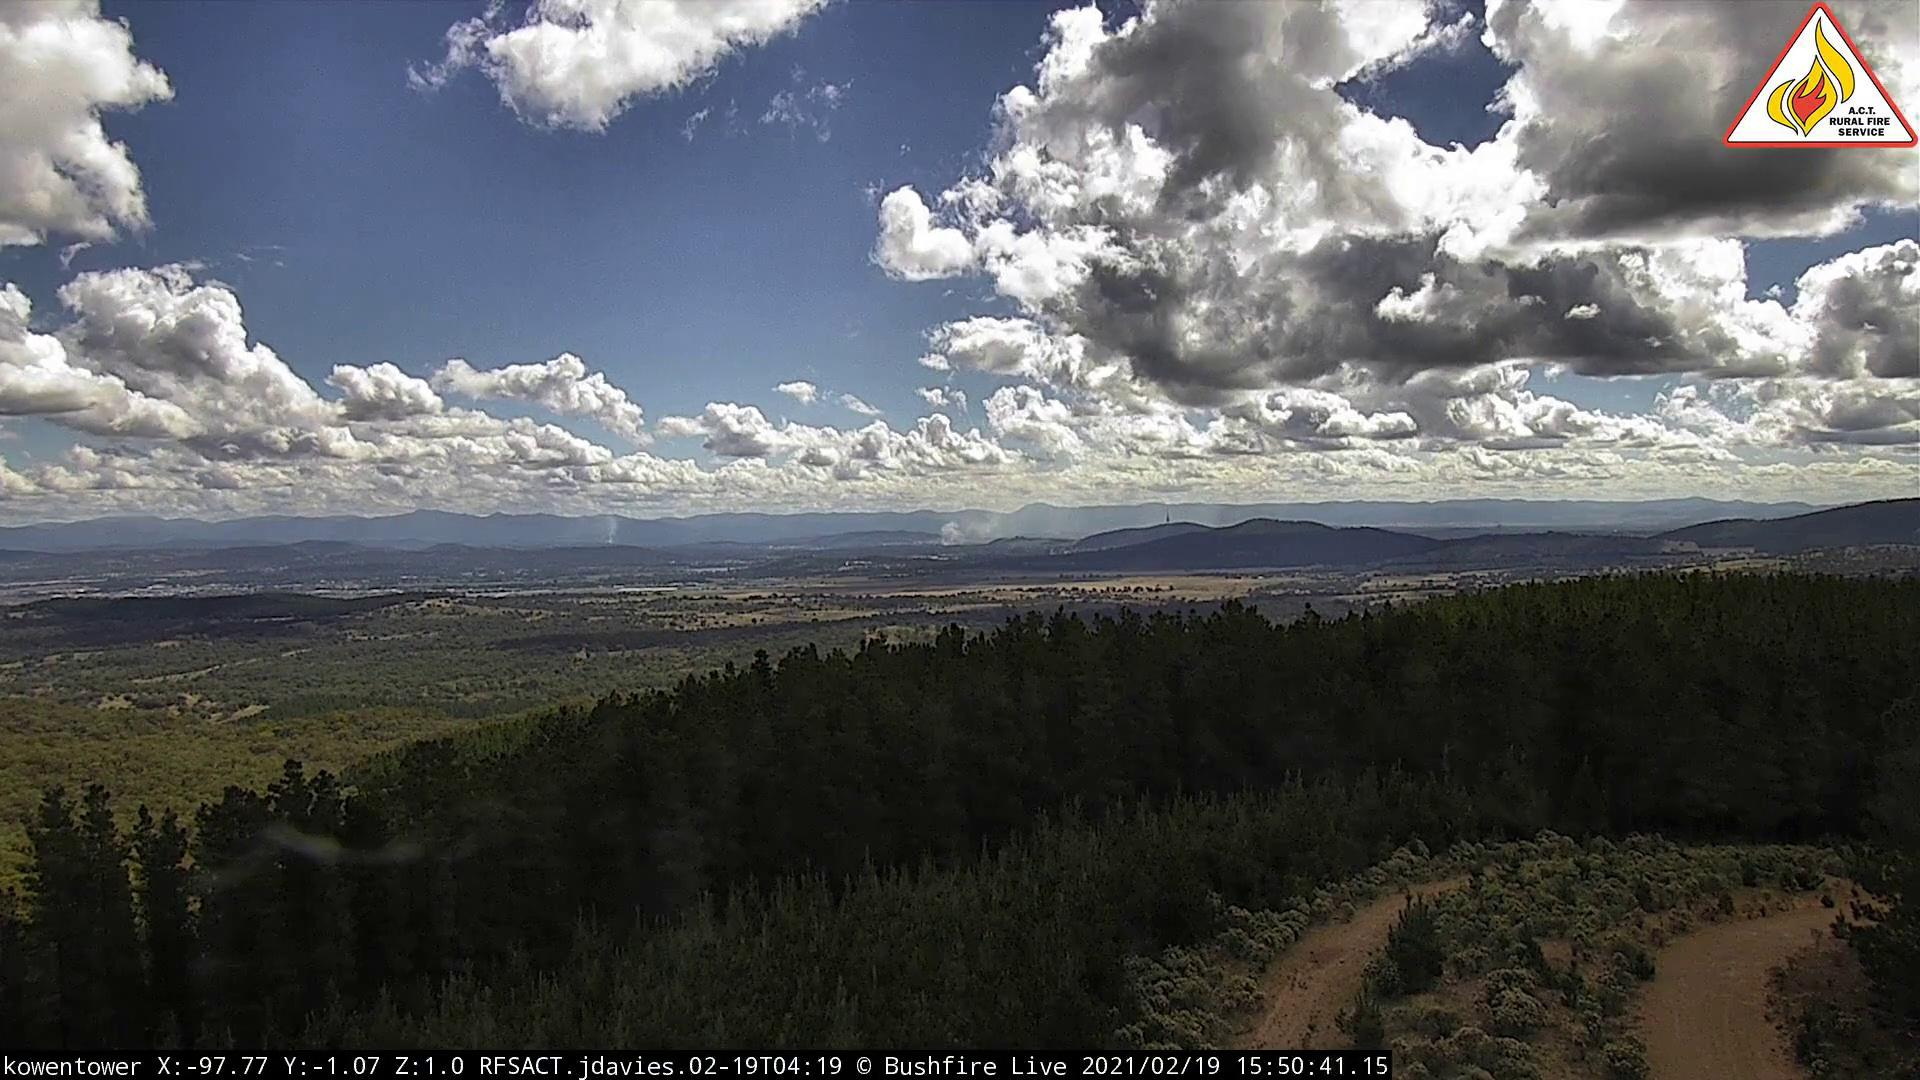Smoke: (935, 513, 1011, 547), (603, 525, 618, 553)
